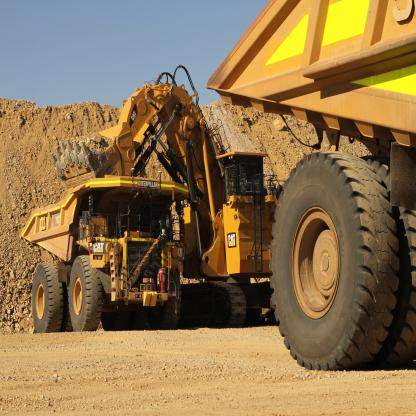dump_truck: (207, 5, 416, 371), (22, 177, 183, 319)
